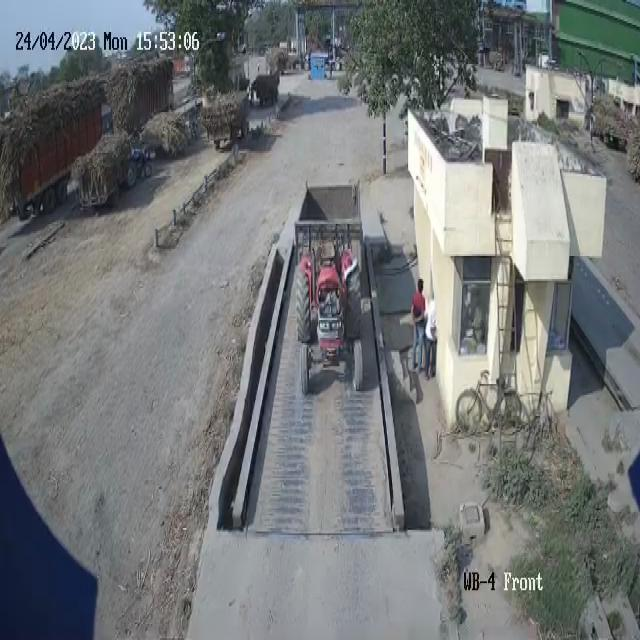Tratores - v5 YOLO V8L 2024-11-13: (294, 234, 370, 414), (118, 136, 156, 189)
